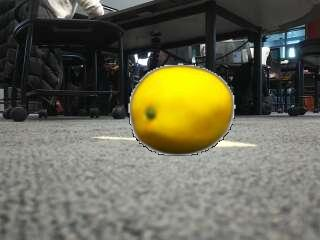lemon: (132, 69, 232, 155)
